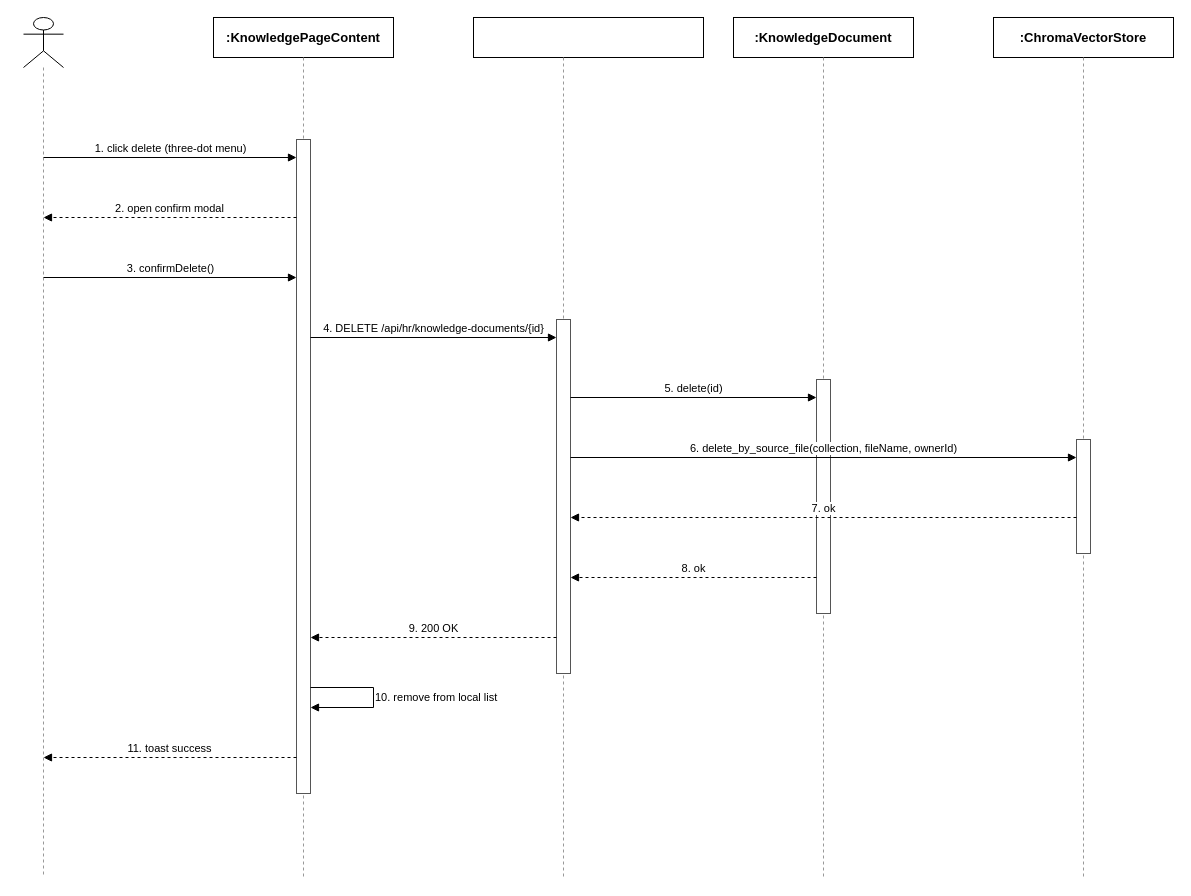
The diagram is 1191 pixels wide and 896 high, and some of its shapes have lost their labels. Here are the shapes that lost their labels. From the top down, the centre of each, then its label:
At (x=43, y=42): "HR Manager".
At (x=588, y=37): ":KnowledgeDocumentsController".
